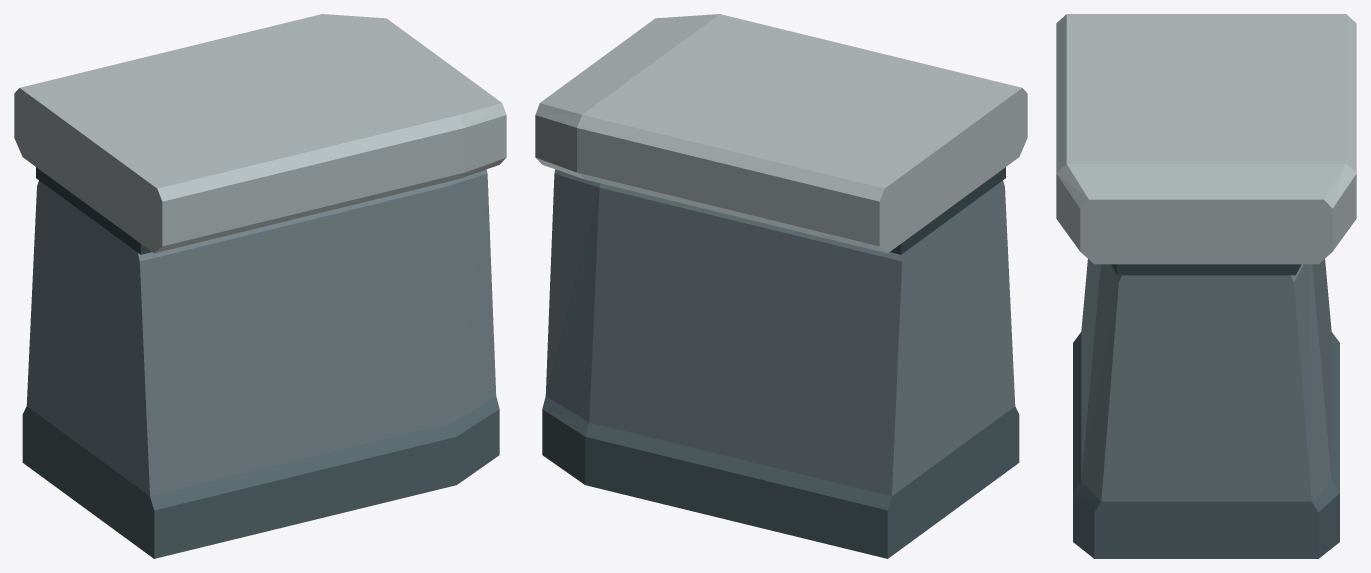
The model's file is city_shore_edges_04_wall_end.glb.
The picture shows the model from 3 angles, left to right: view 1: azimuth 30°, elevation 25°; view 2: azimuth 150°, elevation 25°; view 3: azimuth 270°, elevation 25°; orthographic projection.
Visible parts, largest first — view 1: CityShoreEdges04_wall_end_Mesh; view 2: CityShoreEdges04_wall_end_Mesh; view 3: CityShoreEdges04_wall_end_Mesh.
Boxes of the visible parts, x1,y1,x2,y2 form: CityShoreEdges04_wall_end_Mesh: (14, 14, 506, 558); CityShoreEdges04_wall_end_Mesh: (535, 14, 1027, 558); CityShoreEdges04_wall_end_Mesh: (1056, 14, 1356, 558).
Size of the model in its own units: 1 by 1 by 0.72.
